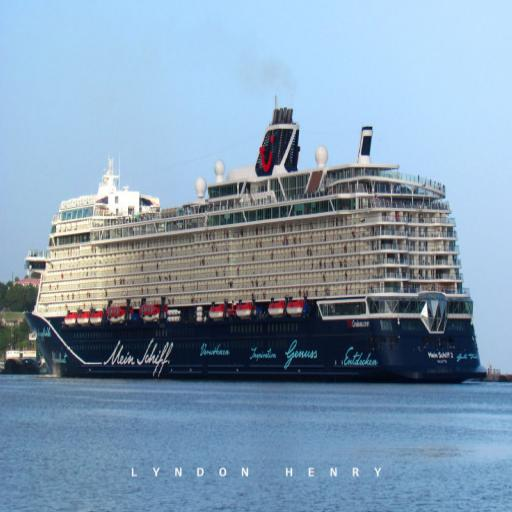cruises: (20, 106, 491, 396)
